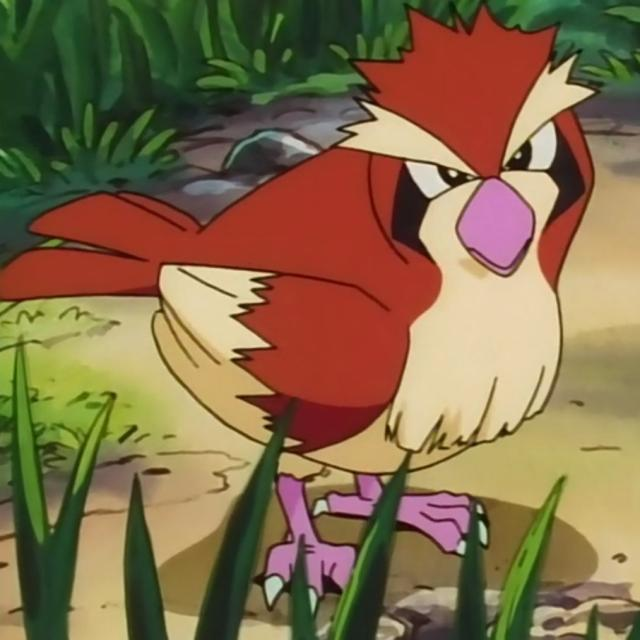Pidgey: (124, 21, 602, 554)
